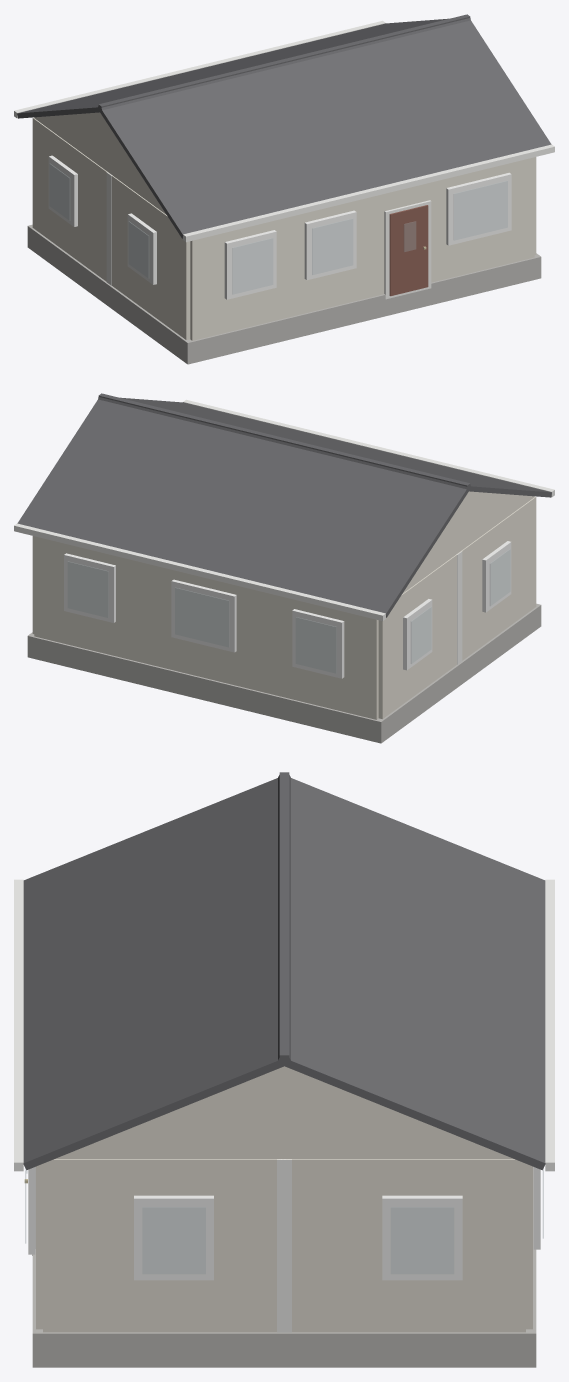
The model's file is house-placeholder.glb.
The picture shows the model from 3 angles, top to bottom: view 1: azimuth 30°, elevation 25°; view 2: azimuth 150°, elevation 25°; view 3: azimuth 270°, elevation 25°; orthographic projection. The views are drawn at different scales.
Visible parts, largest first — view 1: Roof_Front, Body_Front, Body_Left, Foundation, Roof_Back, Window_Front_03_Frame, Roof_GableFill_Left, Trim_Fascia_Front, Door_Front_Slab, Window_Front_01_Frame, Window_Front_02_Frame, Window_Front_03_Glass (+10 smaller); view 2: Roof_Back, Body_Back, Body_Left, Foundation, Roof_Front, Window_Back_02_Frame, Roof_GableFill_Left, Trim_Fascia_Back, Window_Back_01_Frame, Window_Back_03_Frame, Window_Back_02_Glass, Window_Back_01_Glass (+8 smaller); view 3: Roof_Front, Roof_Back, Body_Right, Roof_GableFill_Right, Foundation, Window_Right_01_Frame, Window_Right_02_Frame, Window_Right_02_Glass, Window_Right_01_Glass, Roof_Ridge, Trim_Fascia_Front, Trim_Fascia_Back (+3 smaller).
Part boxes in pixels (<box>): Roof_Front: <box>97,20,551,238</box>; Body_Front: <box>190,157,534,340</box>; Body_Left: <box>32,117,190,339</box>; Foundation: <box>27,224,541,364</box>; Roof_Back: <box>17,18,470,118</box>; Window_Front_03_Frame: <box>446,172,511,245</box>; Roof_GableFill_Left: <box>34,112,166,214</box>; Trim_Fascia_Front: <box>183,144,554,242</box>; Door_Front_Slab: <box>389,205,428,296</box>; Window_Front_01_Frame: <box>224,230,276,299</box>; Window_Front_02_Frame: <box>304,210,356,280</box>; Window_Front_03_Glass: <box>454,181,507,240</box>; Roof_Back: <box>17,399,471,617</box>; Body_Back: <box>34,536,378,719</box>; Body_Left: <box>378,496,536,718</box>; Foundation: <box>27,603,541,743</box>; Roof_Front: <box>98,397,551,497</box>; Window_Back_02_Frame: <box>171,579,236,652</box>; Roof_GableFill_Left: <box>402,491,534,593</box>; Trim_Fascia_Back: <box>14,523,385,621</box>; Window_Back_01_Frame: <box>292,609,344,678</box>; Window_Back_03_Frame: <box>64,553,115,622</box>; Window_Back_02_Glass: <box>175,588,228,647</box>; Window_Back_01_Glass: <box>296,617,336,673</box>; Roof_Front: <box>23,775,291,1170</box>; Roof_Back: <box>277,775,545,1170</box>; Body_Right: <box>43,1159,525,1332</box>; Roof_GableFill_Right: <box>55,1066,513,1158</box>; Foundation: <box>32,1166,536,1367</box>; Window_Right_01_Frame: <box>382,1195,462,1280</box>; Window_Right_02_Frame: <box>134,1195,213,1280</box>; Window_Right_02_Glass: <box>142,1207,205,1273</box>; Window_Right_01_Glass: <box>391,1207,453,1273</box>; Roof_Ridge: <box>279,772,289,1063</box>; Trim_Fascia_Front: <box>14,879,23,1171</box>; Trim_Fascia_Back: <box>545,879,554,1171</box>.
Bounding box in the file's own units: 9.7 × 5.08 × 7.84.
